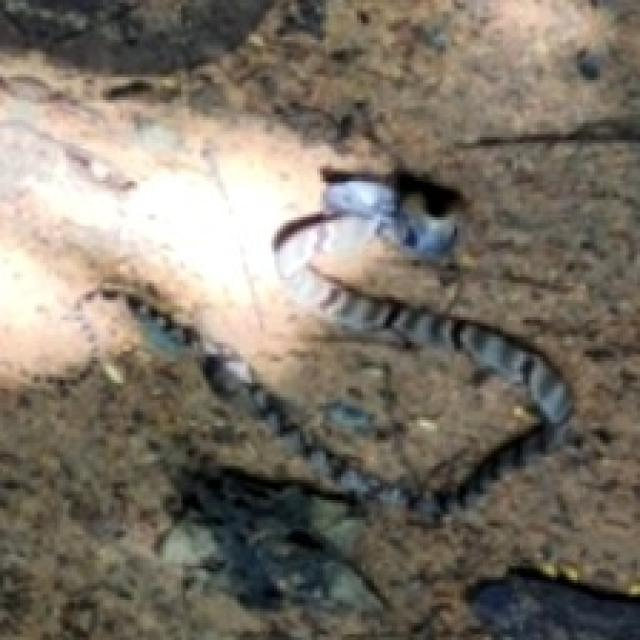dog-toothed cat snake: (210, 170, 570, 521)
